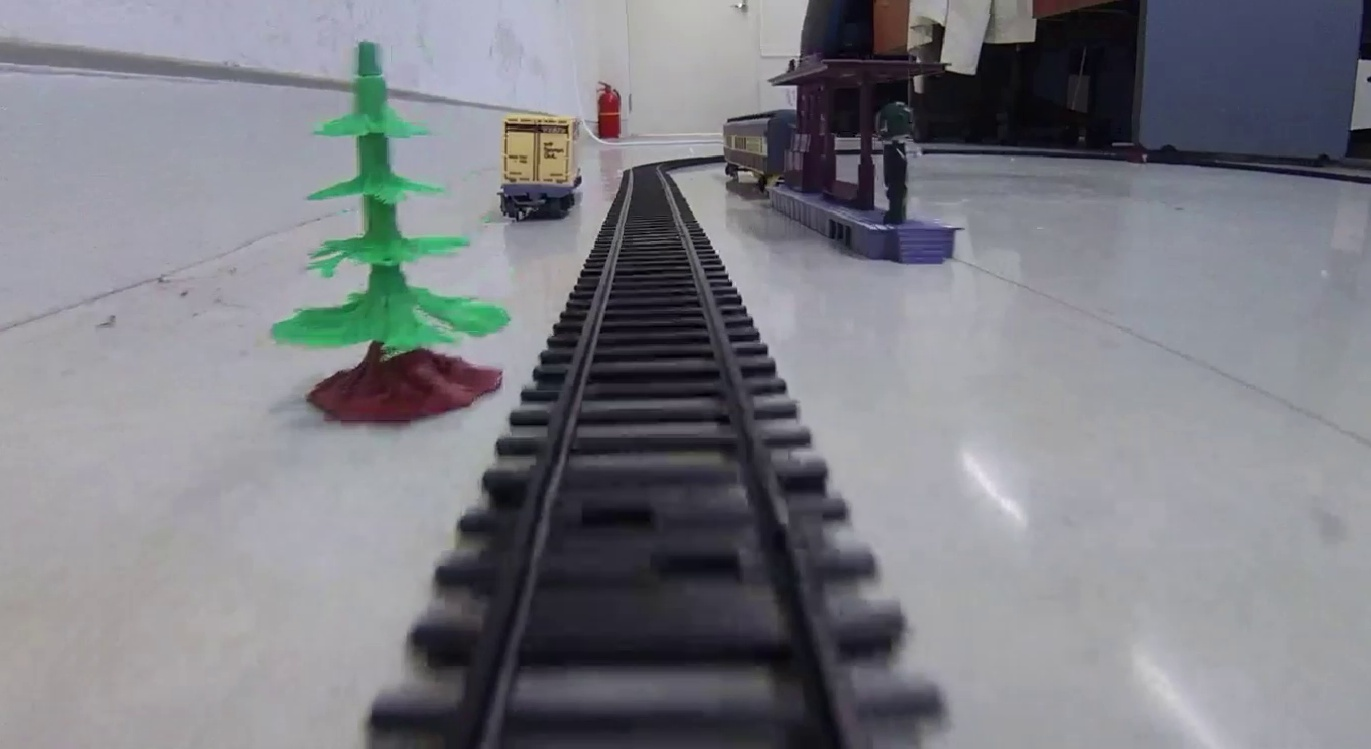people: (875, 96, 917, 227)
tree: (269, 40, 507, 425)
